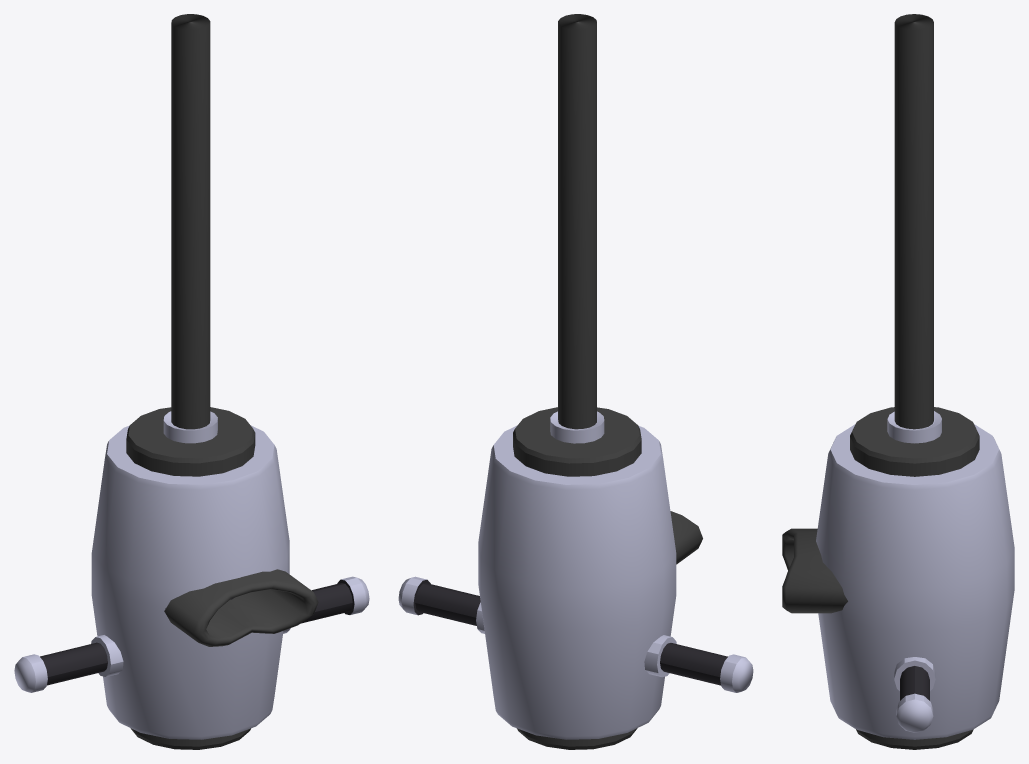
File: Prototype_Periscope.fbx
3 renders of one model, left to right at view 1: azimuth 30°, elevation 25°; view 2: azimuth 150°, elevation 25°; view 3: azimuth 270°, elevation 25°, orthographic.
Visible parts, largest first — view 1: Periscope, Periscope_Pole, Periscope_Glasses, Periscope_Handles; view 2: Periscope, Periscope_Pole, Periscope_Handles, Periscope_Glasses; view 3: Periscope, Periscope_Pole, Periscope_Glasses, Periscope_Handles.
Boxes of the visible parts, bbox=[...] form: Periscope: bbox=[91, 407, 289, 749]; Periscope_Pole: bbox=[171, 14, 210, 429]; Periscope_Glasses: bbox=[164, 569, 318, 646]; Periscope_Handles: bbox=[14, 576, 369, 692]; Periscope: bbox=[478, 407, 676, 749]; Periscope_Pole: bbox=[558, 14, 596, 429]; Periscope_Handles: bbox=[398, 576, 753, 692]; Periscope_Glasses: bbox=[670, 511, 702, 564]; Periscope: bbox=[816, 407, 1014, 749]; Periscope_Pole: bbox=[894, 14, 933, 429]; Periscope_Glasses: bbox=[782, 528, 847, 613]; Periscope_Handles: bbox=[894, 657, 935, 732].
Size of the model in its own units: 4027 by 7943 by 2381.
